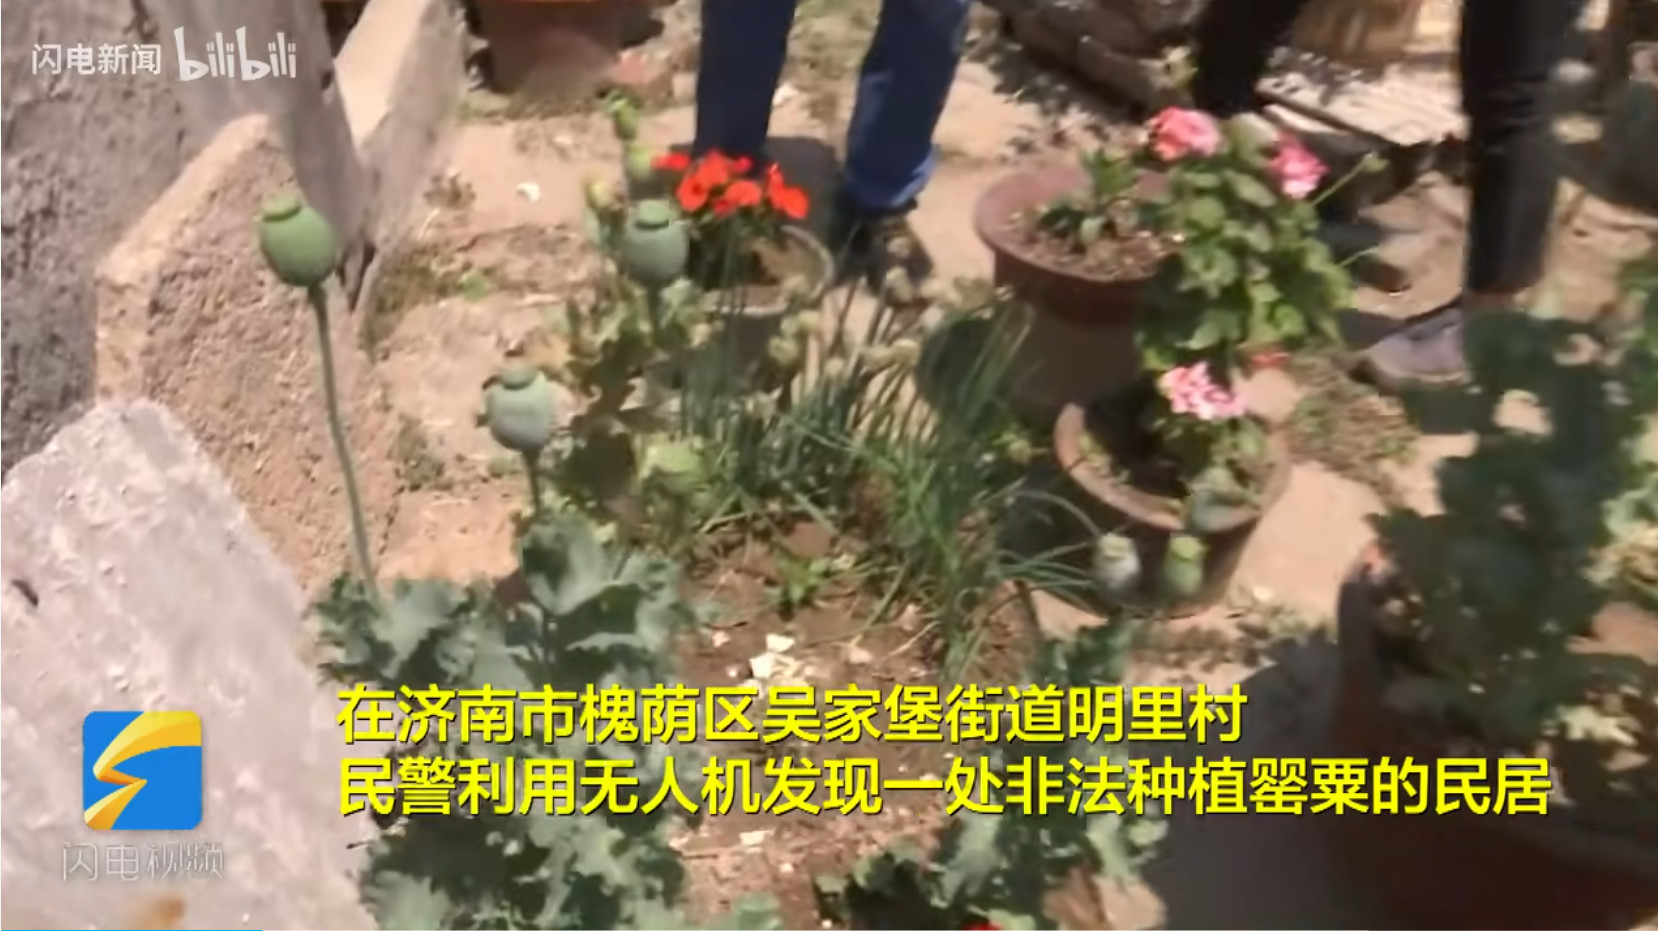Poppy: (225, 134, 834, 897), (1054, 85, 1364, 516), (939, 521, 1249, 929)
